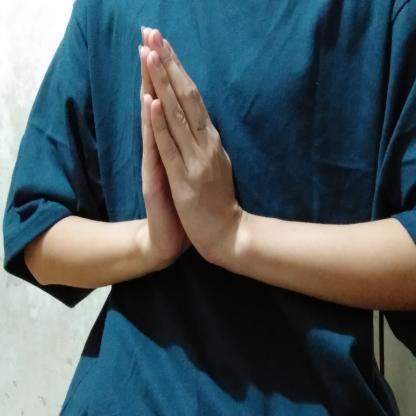sorry: (124, 21, 260, 285)
